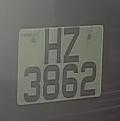2: (77, 59, 100, 99)
3: (21, 64, 42, 105)
6: (59, 63, 80, 102)
8: (40, 64, 62, 104)
H: (42, 26, 63, 65)
Z: (61, 25, 82, 63)
